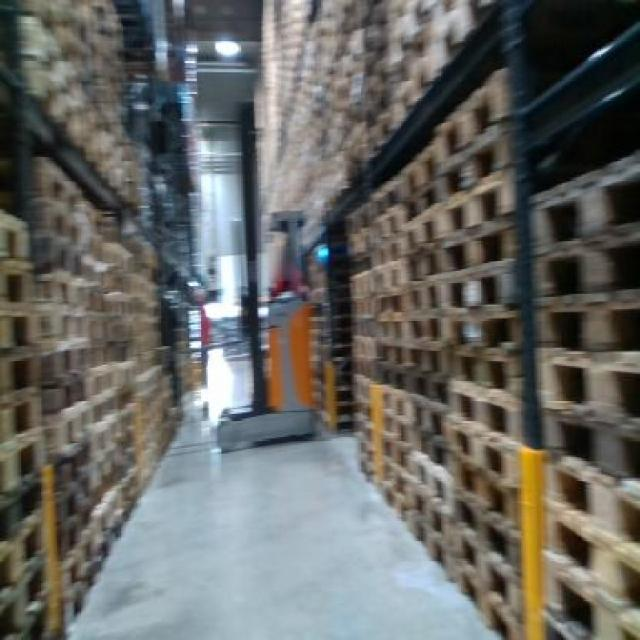ground: (74, 349, 524, 638)
pallet: (340, 70, 523, 638), (36, 157, 183, 624), (253, 2, 504, 234), (530, 148, 637, 248), (548, 502, 638, 619), (545, 547, 638, 638), (548, 457, 638, 550), (529, 227, 638, 300), (540, 404, 638, 482), (532, 349, 638, 417), (436, 68, 508, 166), (530, 286, 638, 351), (452, 557, 519, 638), (440, 166, 519, 233), (444, 214, 517, 275), (450, 381, 520, 443), (0, 427, 49, 497), (452, 348, 521, 396), (0, 388, 44, 446), (0, 347, 40, 399), (0, 257, 36, 308), (0, 306, 41, 346), (0, 209, 28, 258)
